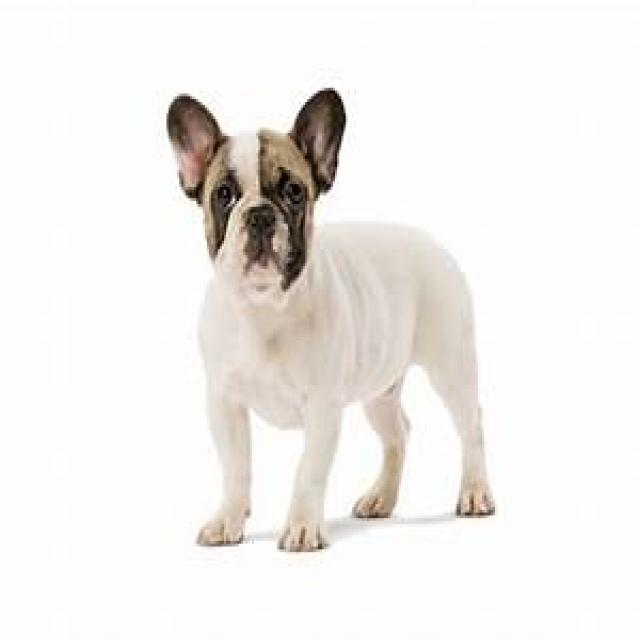dog: (168, 91, 495, 550)
